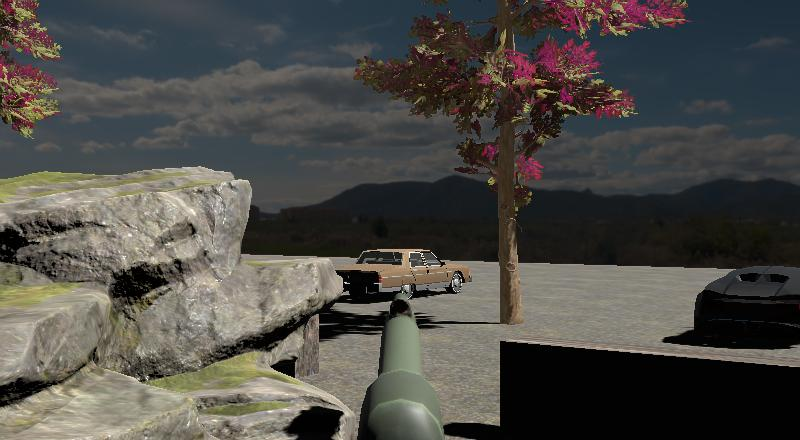car: (688, 261, 800, 350), (330, 245, 475, 303)
